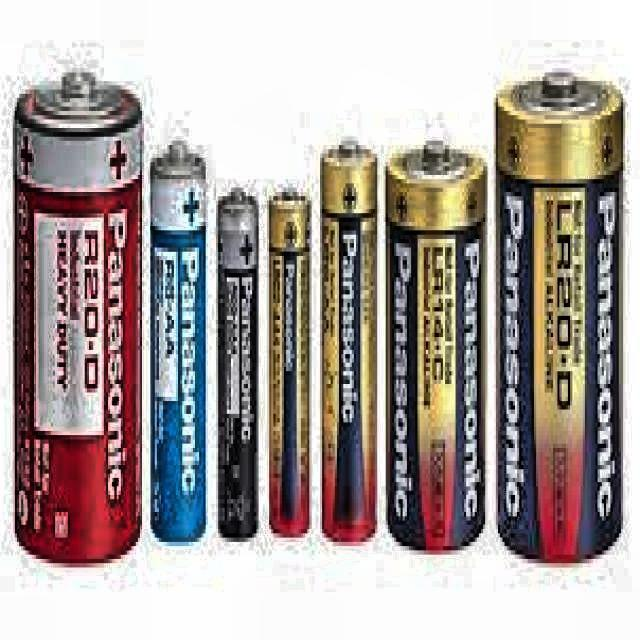battery: (495, 69, 624, 563), (17, 73, 142, 559), (384, 141, 487, 554), (319, 141, 378, 544), (150, 141, 206, 544), (268, 190, 311, 537), (217, 186, 259, 538)
